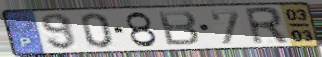0: (80, 11, 117, 50)
7: (209, 9, 242, 46)
8: (125, 11, 159, 49)
9: (39, 12, 78, 52)
B: (155, 9, 202, 47)
R: (242, 6, 291, 46)
